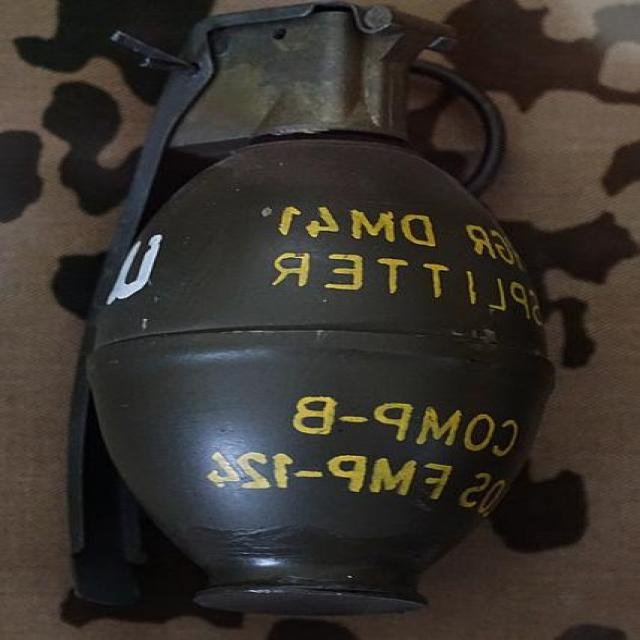grenade: (65, 4, 559, 618)
